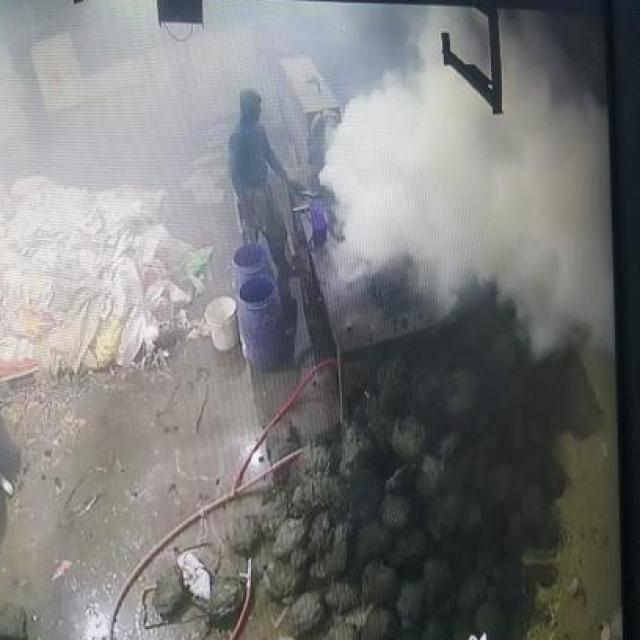fire: (316, 7, 610, 348)
